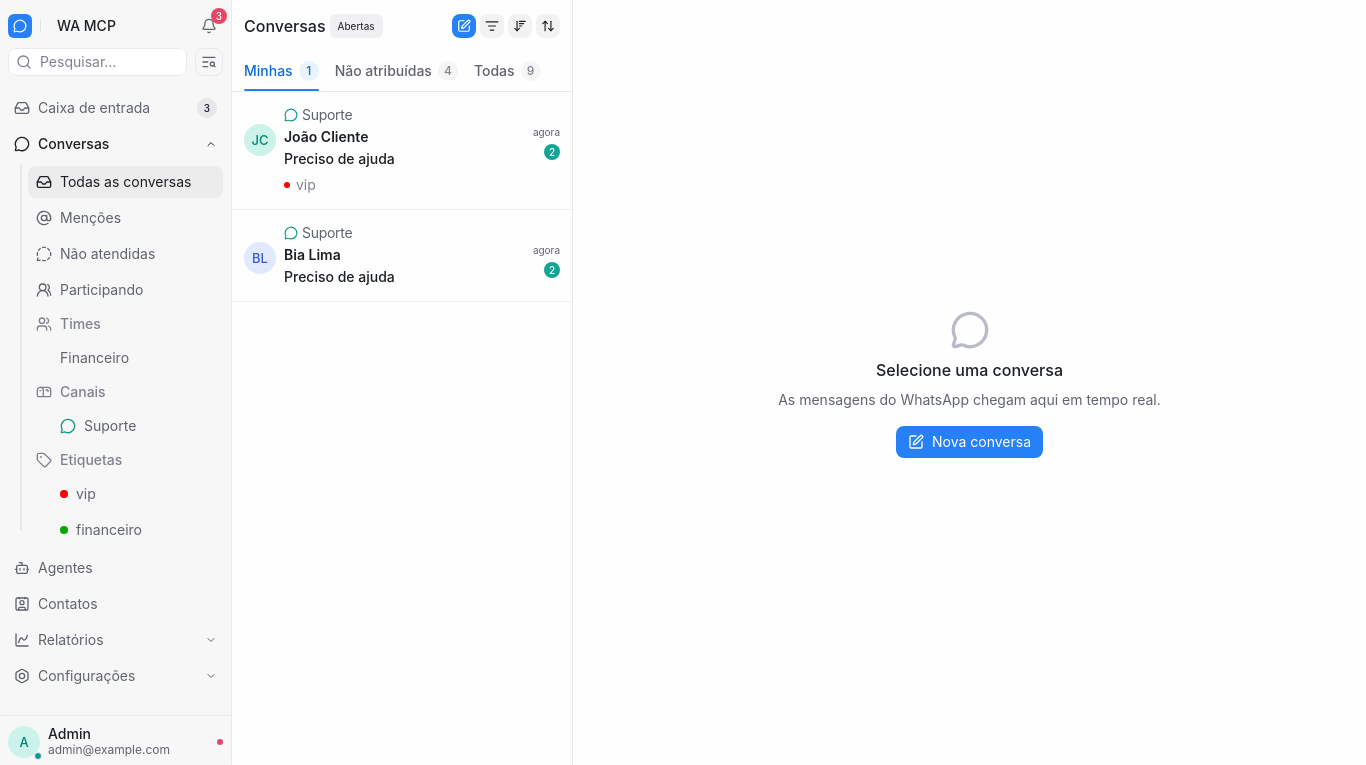
Test: keyboard shortcuts › reopens the contact panel to pick labels and opens search with Ctrl+K
Expected: the heading "Conversas" is shown, x1=244 y1=14 x2=326 y2=38
Expected: the text "Bia Lima" is shown, x1=284 y1=246 x2=341 y2=263
Type keys "{Alt>}j{/Alt}"
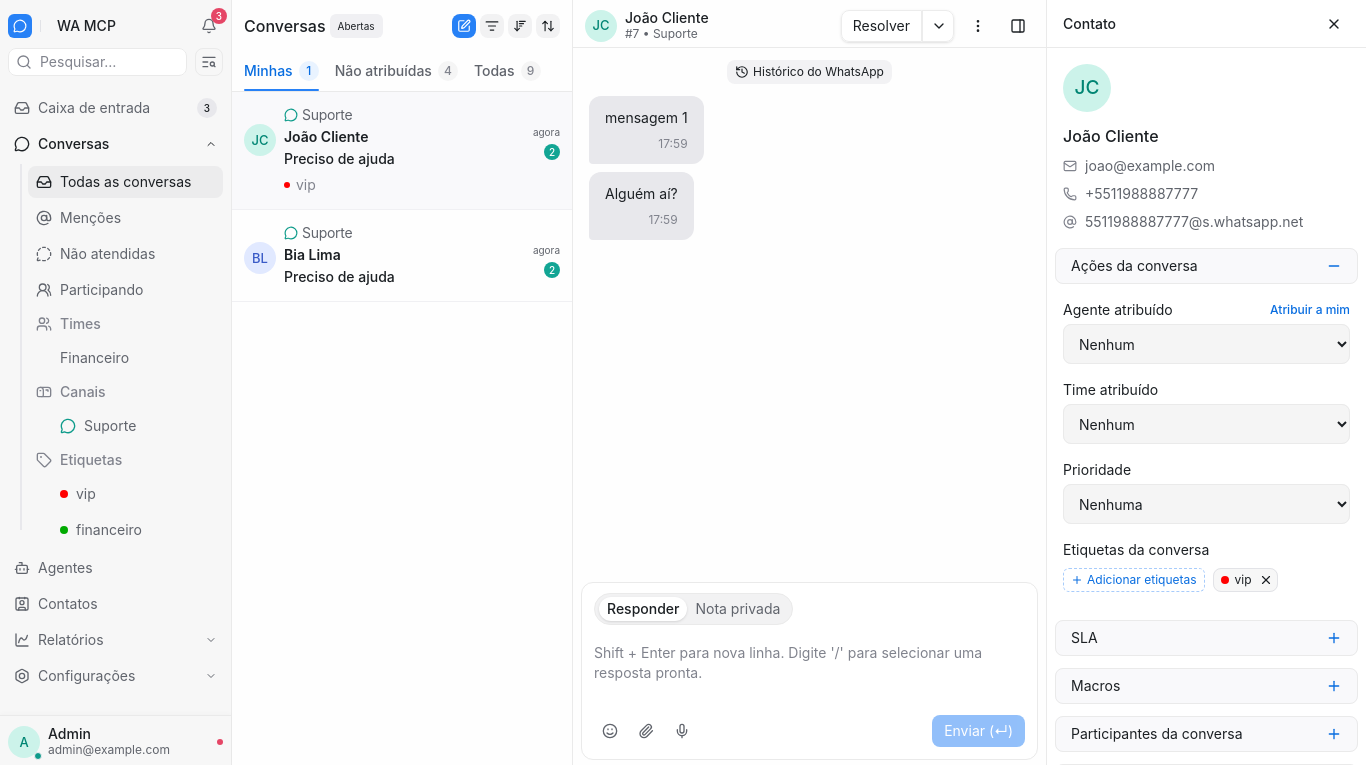
Result: the text "Alguém aí?" is shown at x1=605 y1=184 x2=678 y2=204
Click the button named "Ocultar painel do contato". click: (1018, 26)
box: x1=1002 y1=10 x2=1034 y2=42
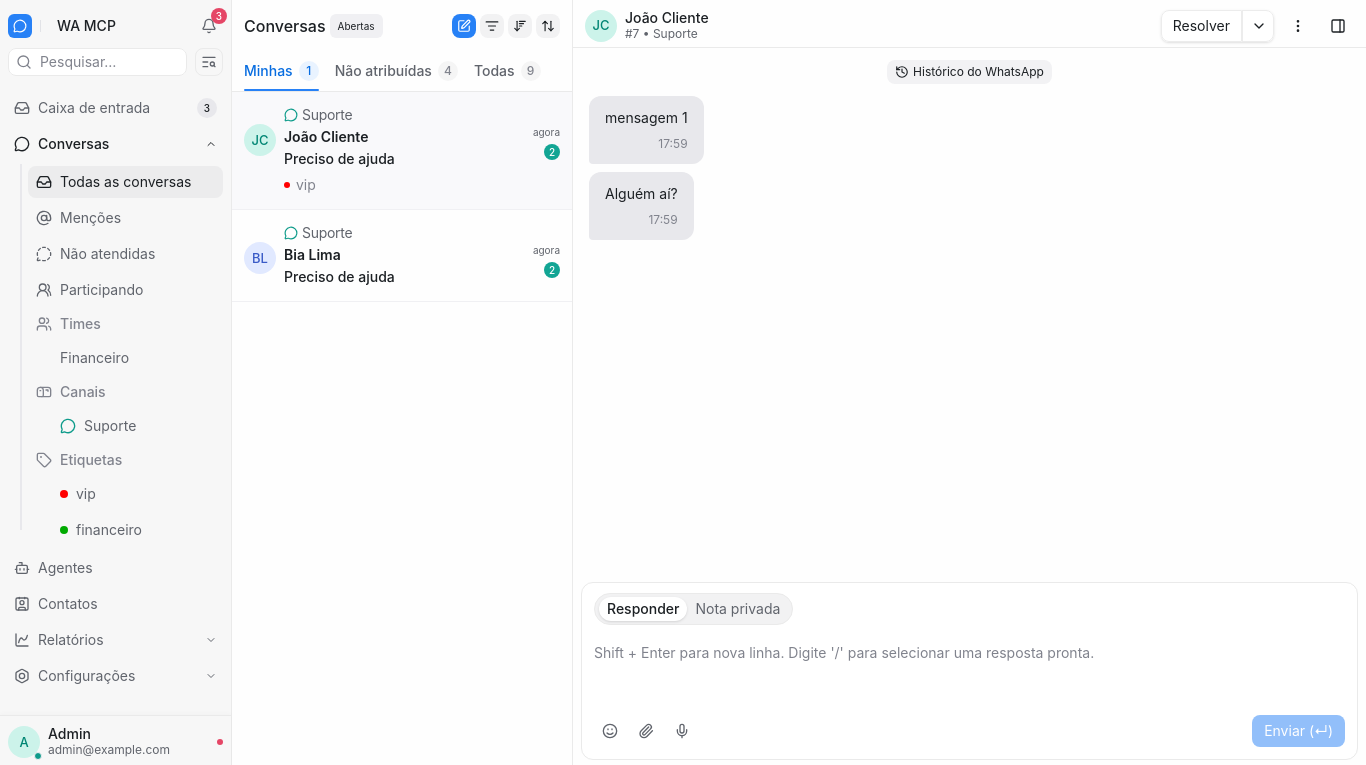
Type keys "{Alt>}l{/Alt}"
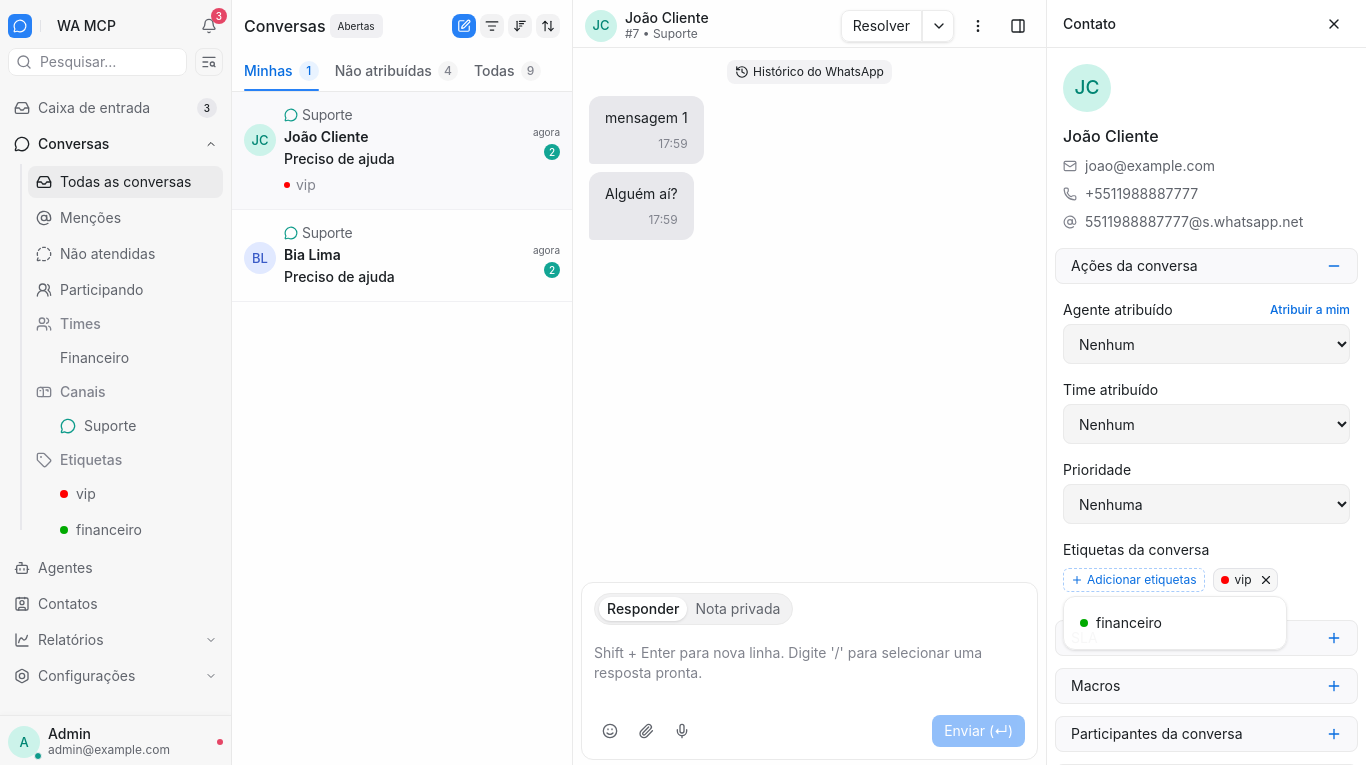
Result: the menu item "financeiro" is shown at x1=1072 y1=605 x2=1278 y2=641
Type keys "{Meta>}k{/Meta}"
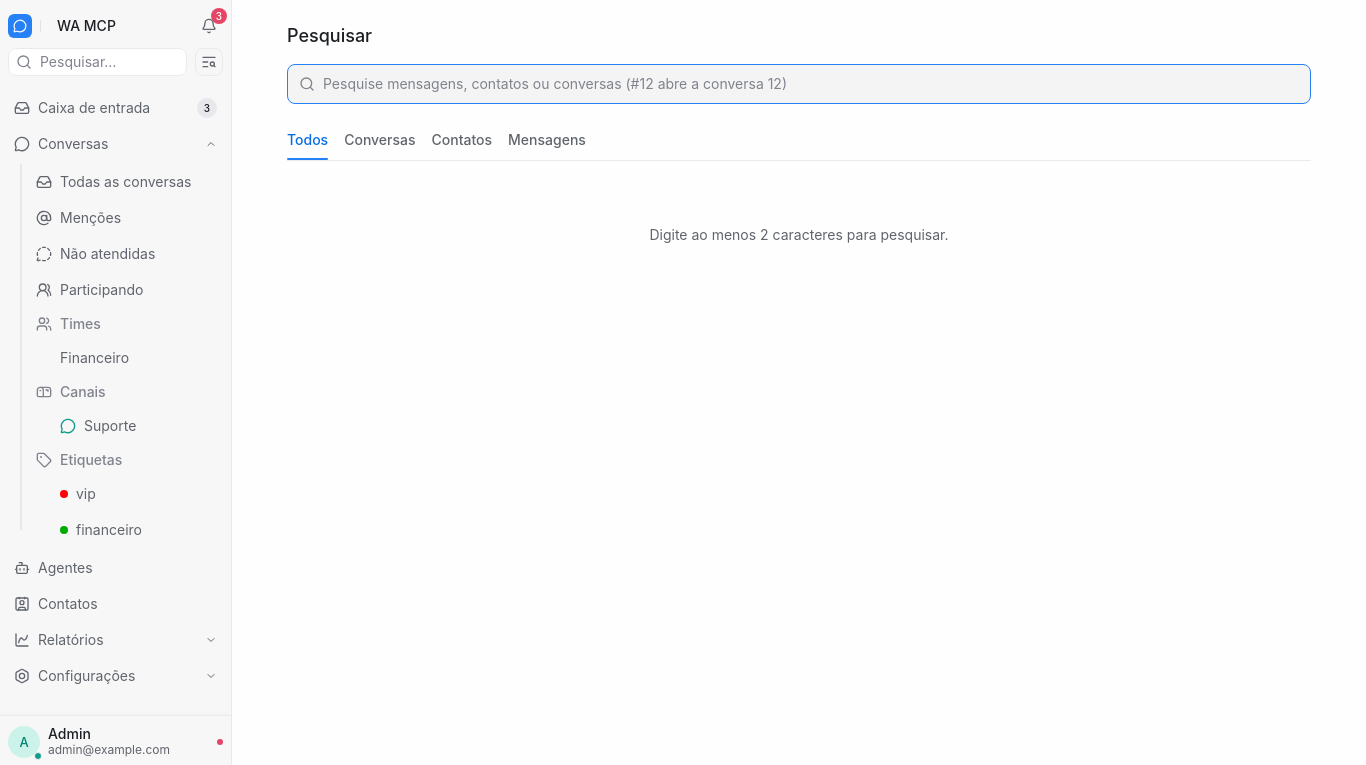
Result: the heading "Pesquisar" is shown at x1=287 y1=25 x2=372 y2=46
